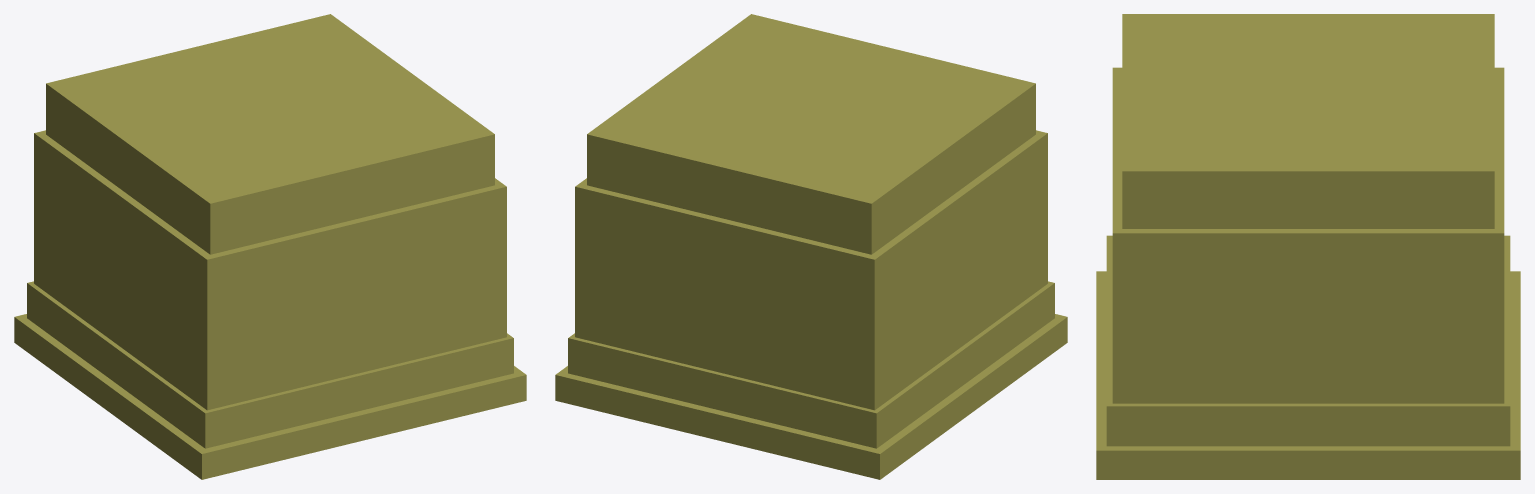
The model's file is pedestal.glb.
3 views of the same model, side by side, from view 1: azimuth 30°, elevation 25°; view 2: azimuth 150°, elevation 25°; view 3: azimuth 270°, elevation 25° (orthographic). The views are drawn at different scales.
Bounding box in the file's own units: 2 × 1.55 × 2.
